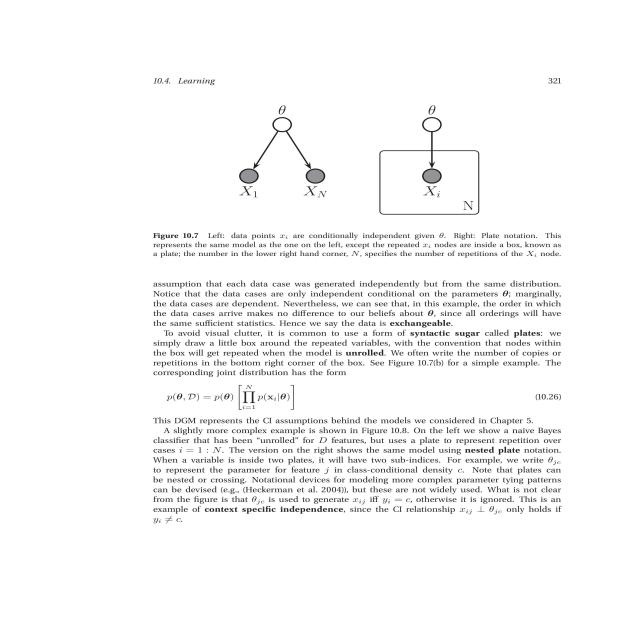diagram: (105, 90, 640, 265)
